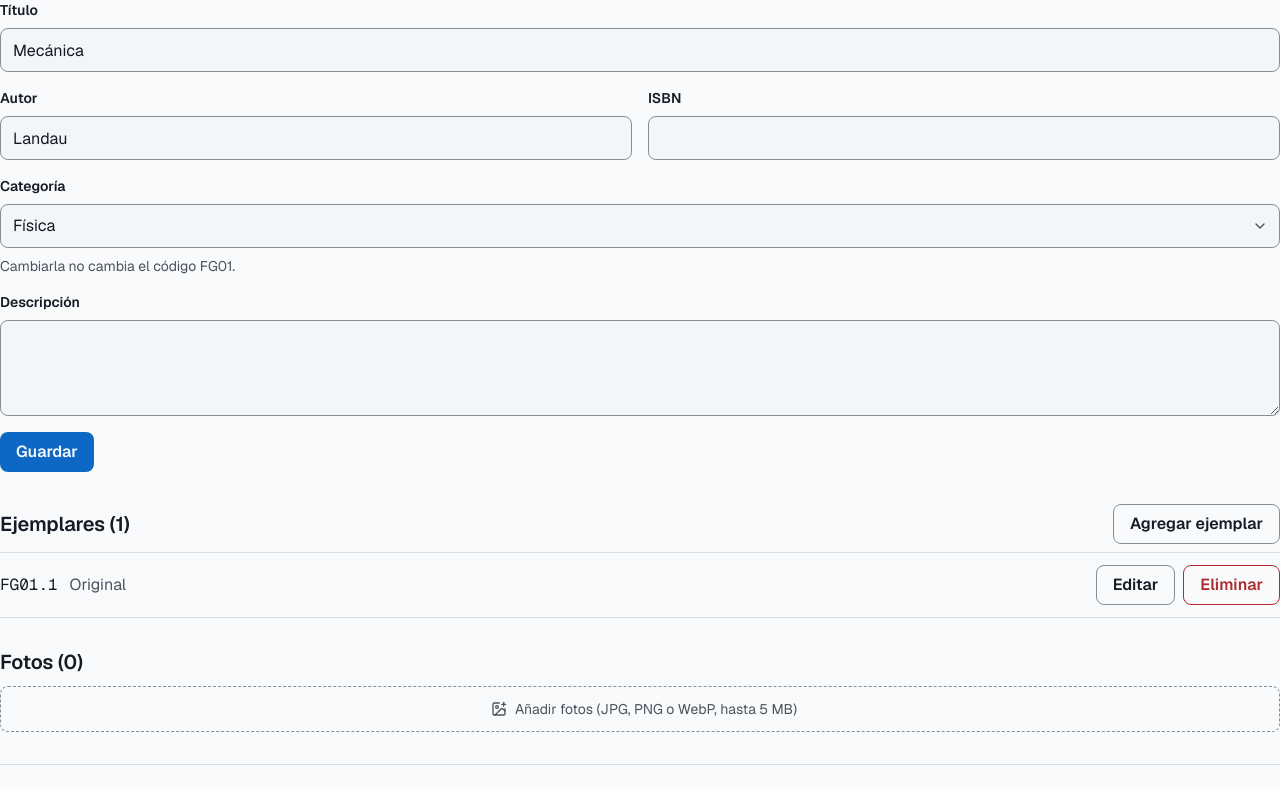
it: BookEditor › shows a refused copy deletion under that copy
The width and height of the screenshot is (1280, 789).
Click the button "Eliminar" at x=1232, y=585, box [1183, 565, 1279, 605]
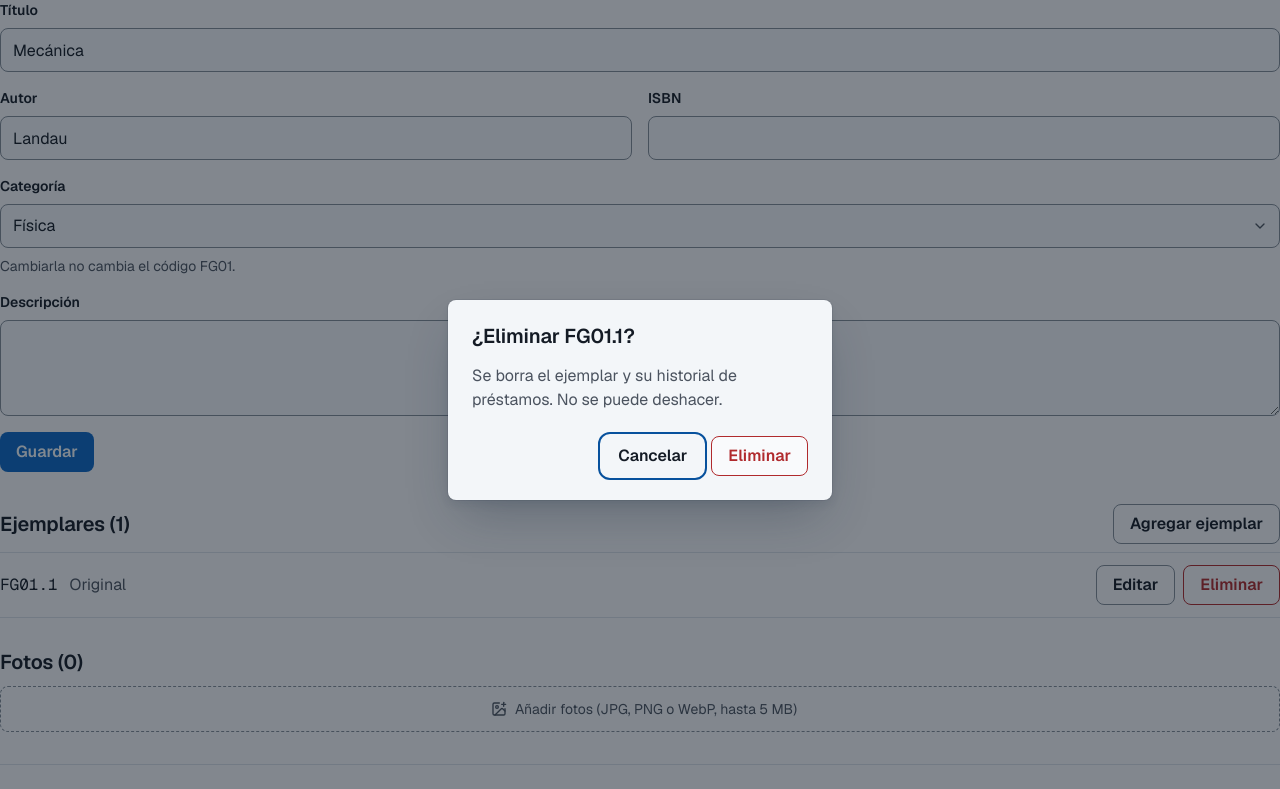
Click the button "Eliminar" at x=760, y=456, box [711, 436, 808, 476]
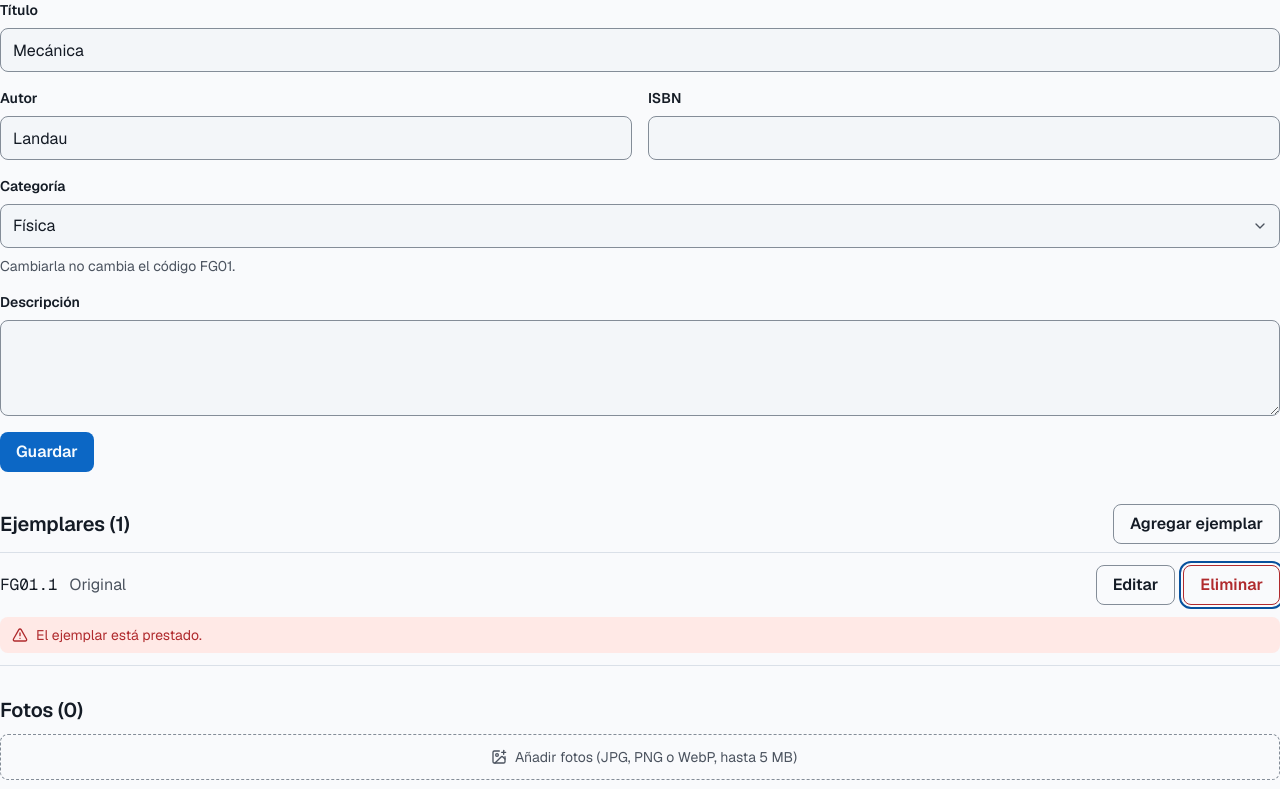
Expected: the message reads "El ejemplar está prestado.", [36, 626, 202, 644]
